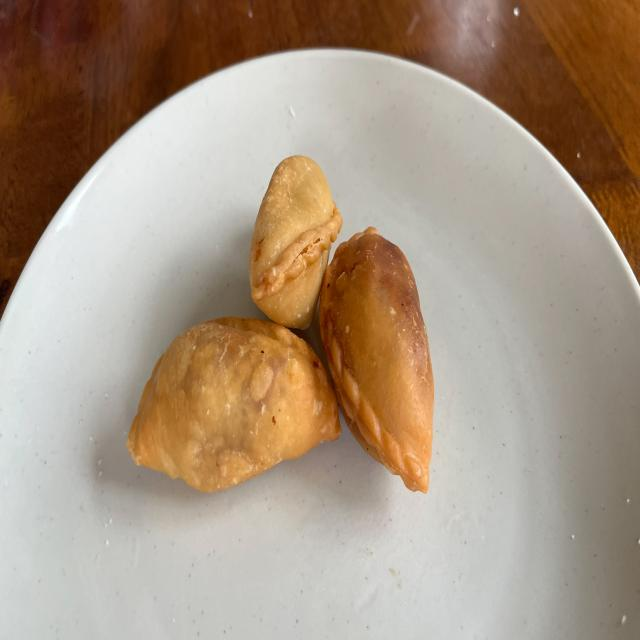karipap: (126, 318, 341, 491), (319, 227, 434, 493), (249, 156, 342, 329)
